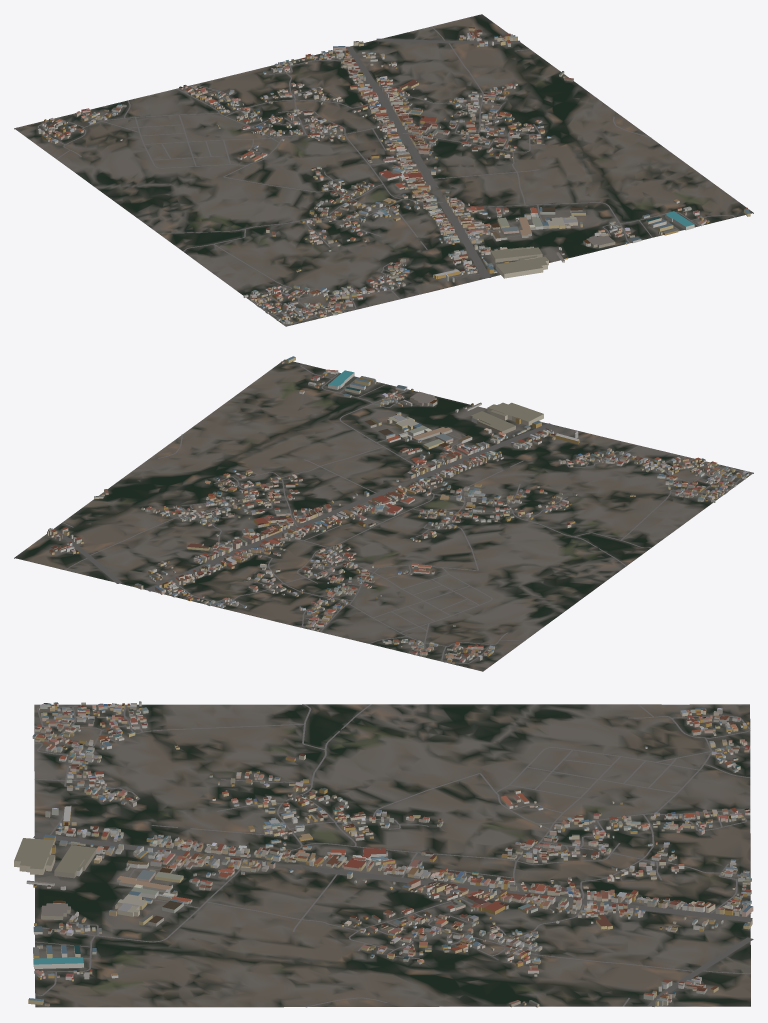
3 views of the same model, one above another, from view 1: azimuth 30°, elevation 25°; view 2: azimuth 150°, elevation 25°; view 3: azimuth 270°, elevation 25° (orthographic). The views are drawn at different scales.
Parts seen in each view (by area): view 1: ground, buildings, roads; view 2: ground, buildings, roads; view 3: ground, buildings, roads.
Part boxes in pixels (bbox=[...]): ground: bbox=[14, 14, 753, 326]; buildings: bbox=[38, 27, 750, 323]; roads: bbox=[37, 26, 734, 324]; ground: bbox=[14, 359, 753, 671]; buildings: bbox=[47, 356, 748, 663]; roads: bbox=[54, 364, 750, 663]; ground: bbox=[34, 704, 750, 1007]; buildings: bbox=[14, 701, 753, 1007]; roads: bbox=[33, 704, 753, 1007].
Size of the model in its own units: 1404 by 19.49 by 1449.
